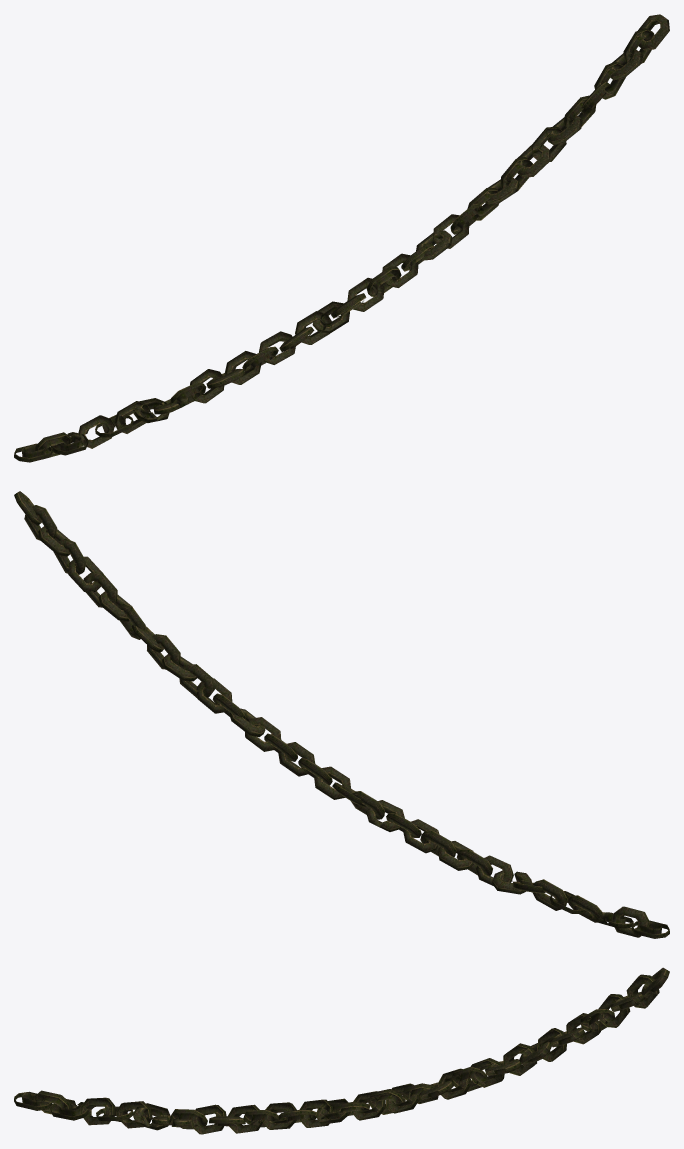
The model's file is S_Build_Muxue066_1.FBX.
The picture shows the model from 3 angles, top to bottom: view 1: azimuth 30°, elevation 25°; view 2: azimuth 150°, elevation 25°; view 3: azimuth 330°, elevation 25°; orthographic projection.
Parts seen in each view (by area): view 1: S_Build_Muxue066_1; view 2: S_Build_Muxue066_1; view 3: S_Build_Muxue066_1.
Boxes of the visible parts, <box> form: S_Build_Muxue066_1: <box>14,14,669,462</box>; S_Build_Muxue066_1: <box>14,491,669,938</box>; S_Build_Muxue066_1: <box>14,967,669,1134</box>.
Bounding box in the file's own units: 3639 × 151 × 1567.
